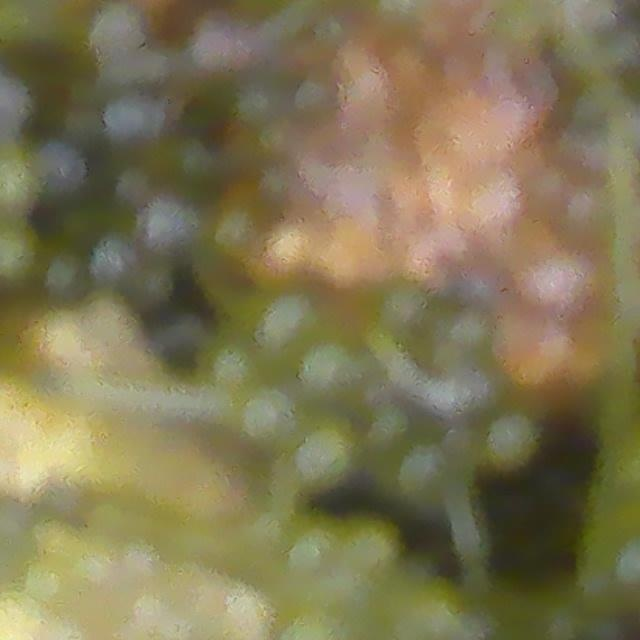SeaGrape: (231, 379, 306, 456)
